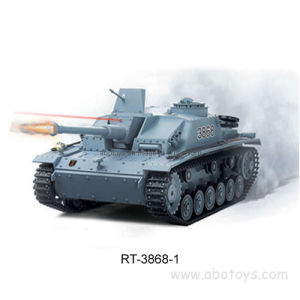Battle Tank: (34, 98, 263, 226)
